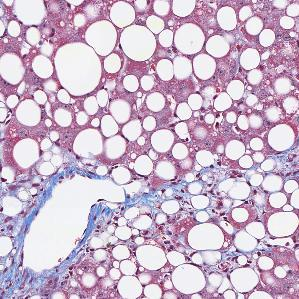fibrosis: (0, 257, 69, 299), (89, 200, 158, 233)
